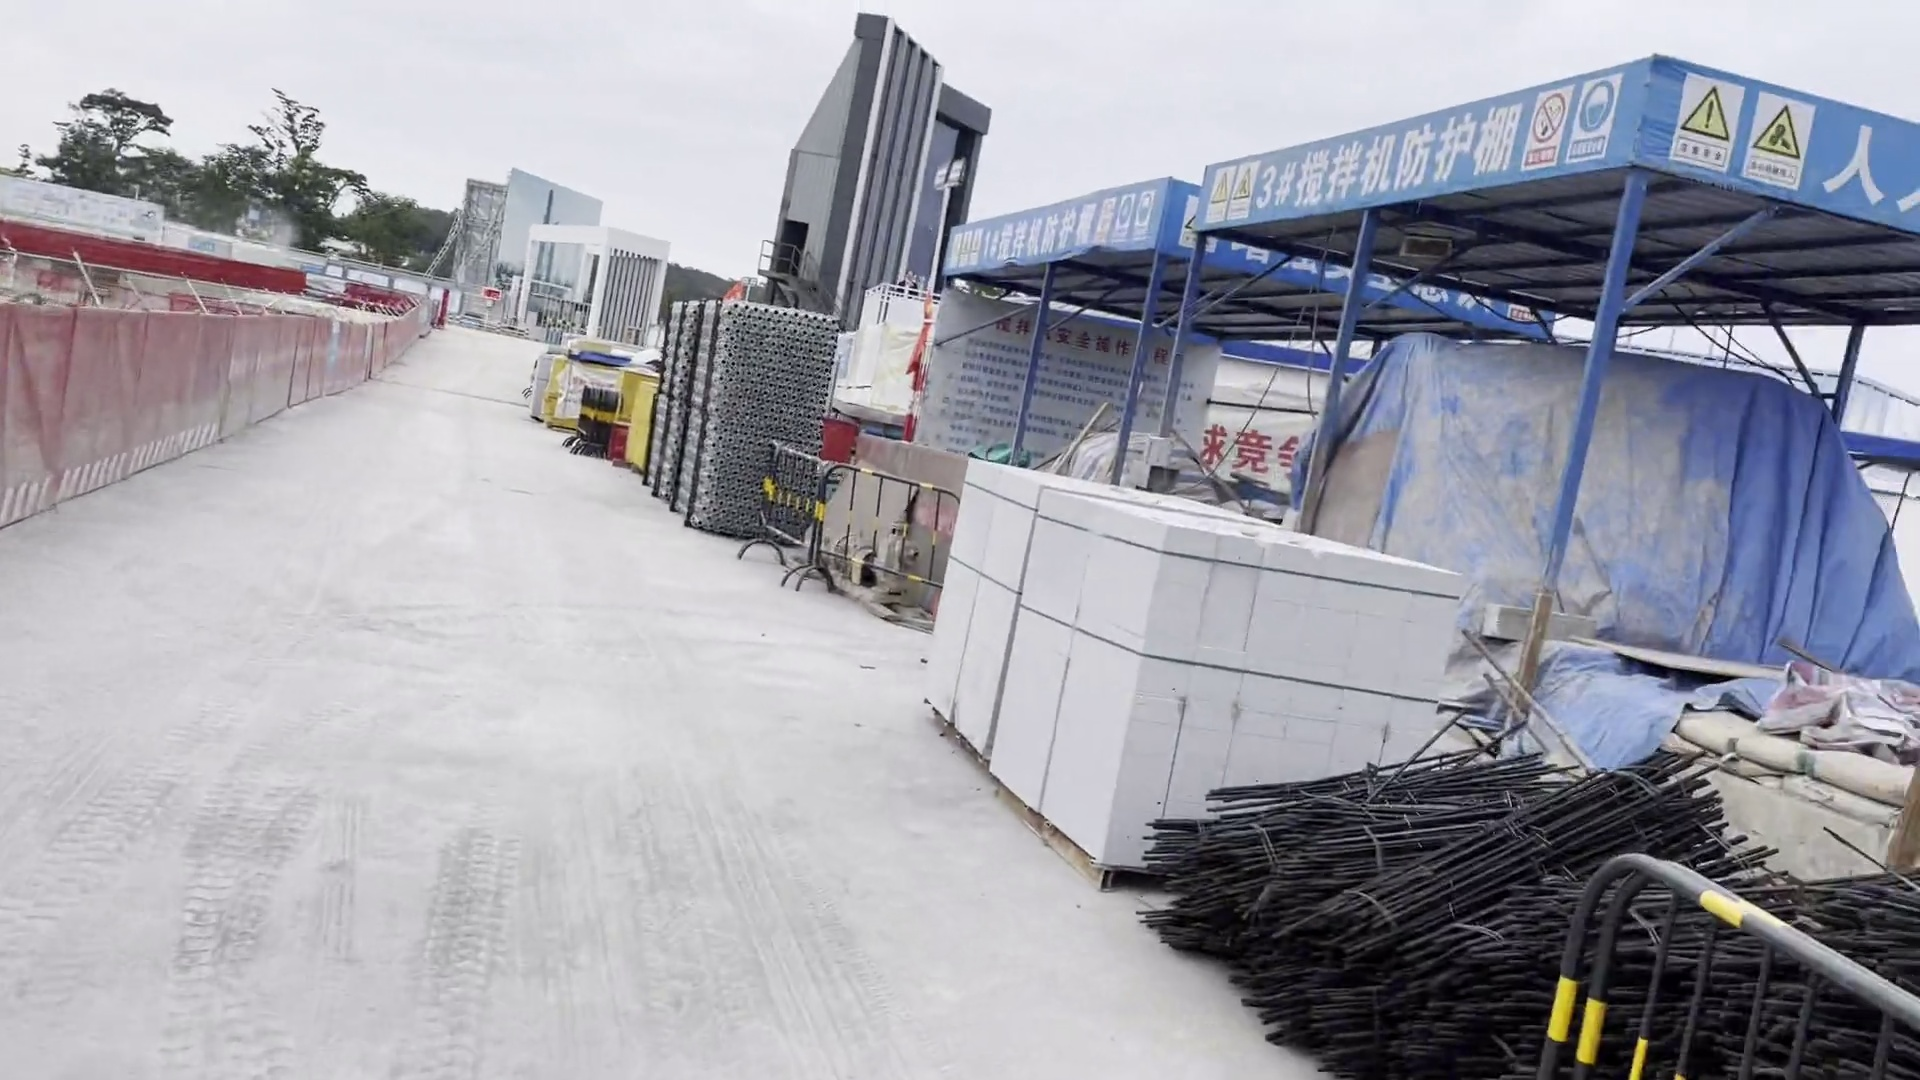fence: (7, 302, 425, 524), (8, 208, 433, 311)
scaffold: (919, 450, 1461, 884), (650, 301, 839, 537)
